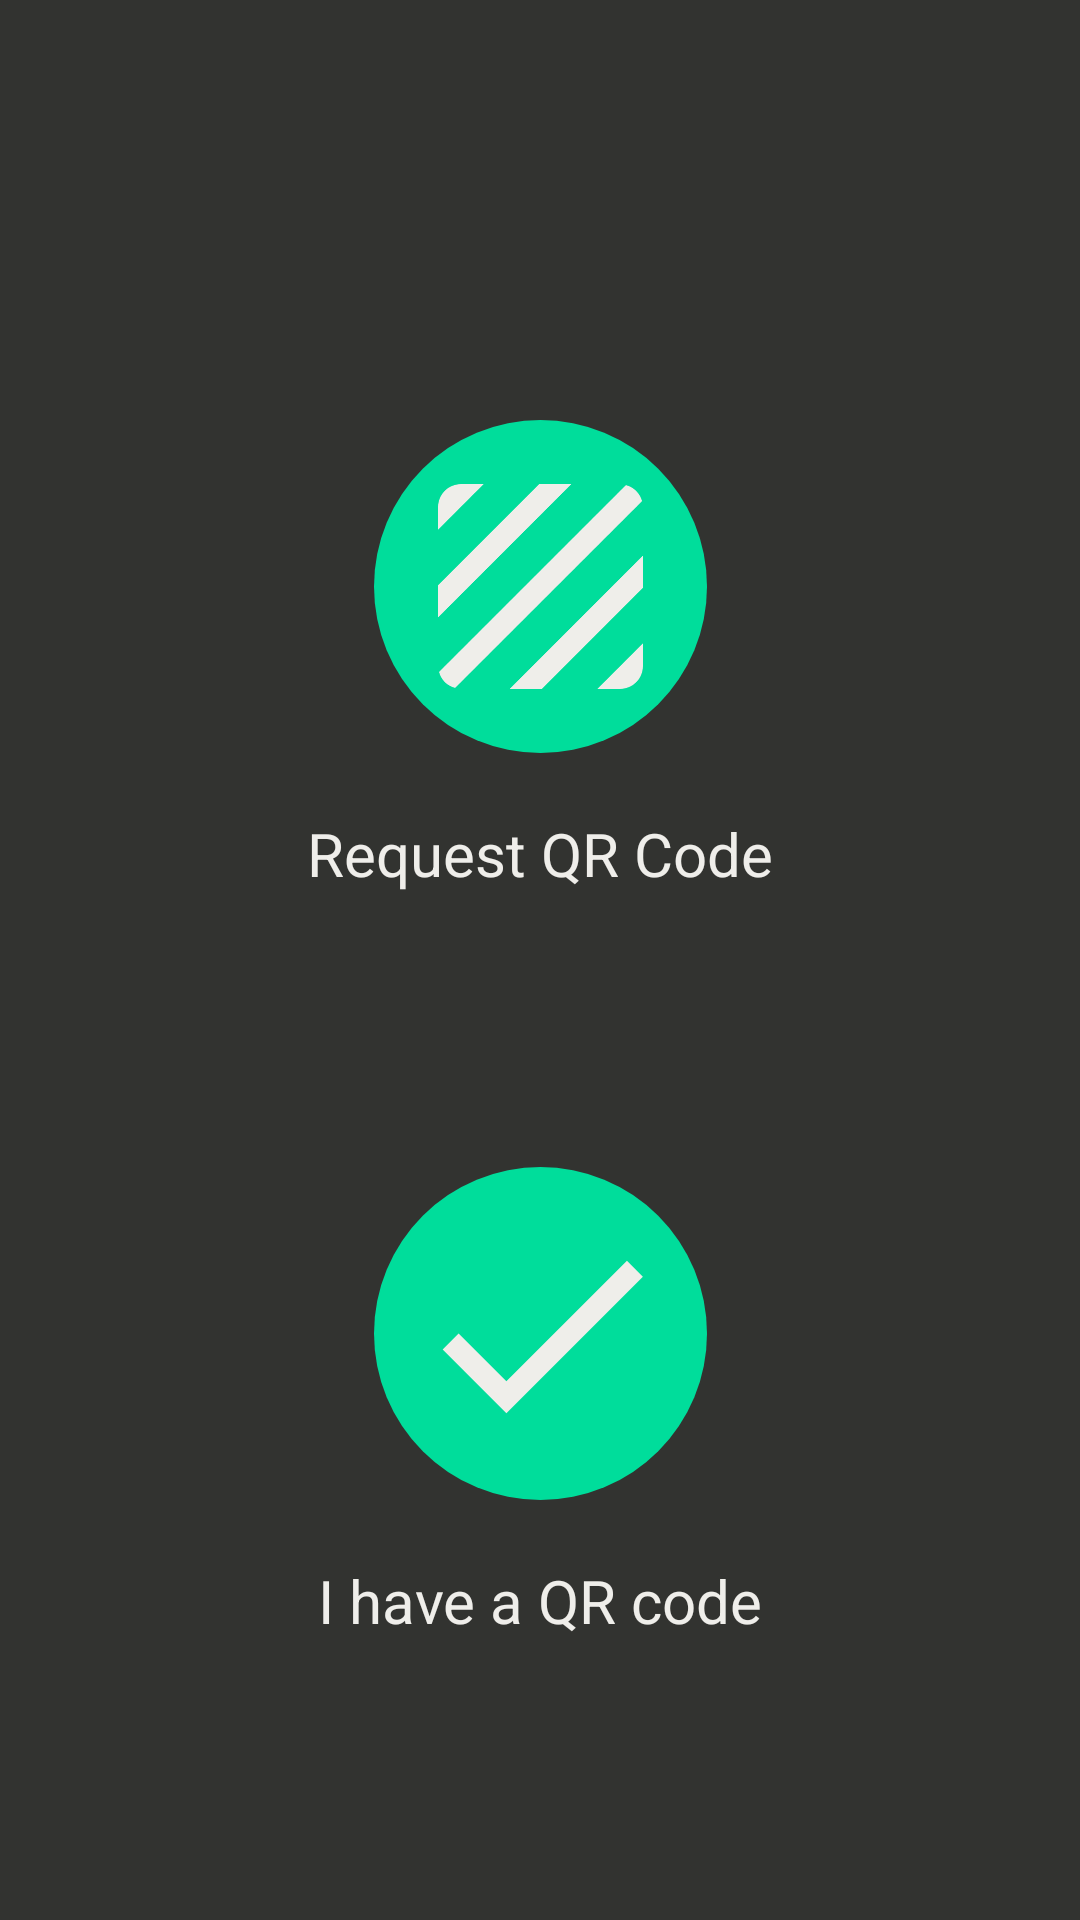

Icon click points for this 1080x1920 phone screenshot, format [x,y]:
done: [543,1337]
texture: [540,586]
